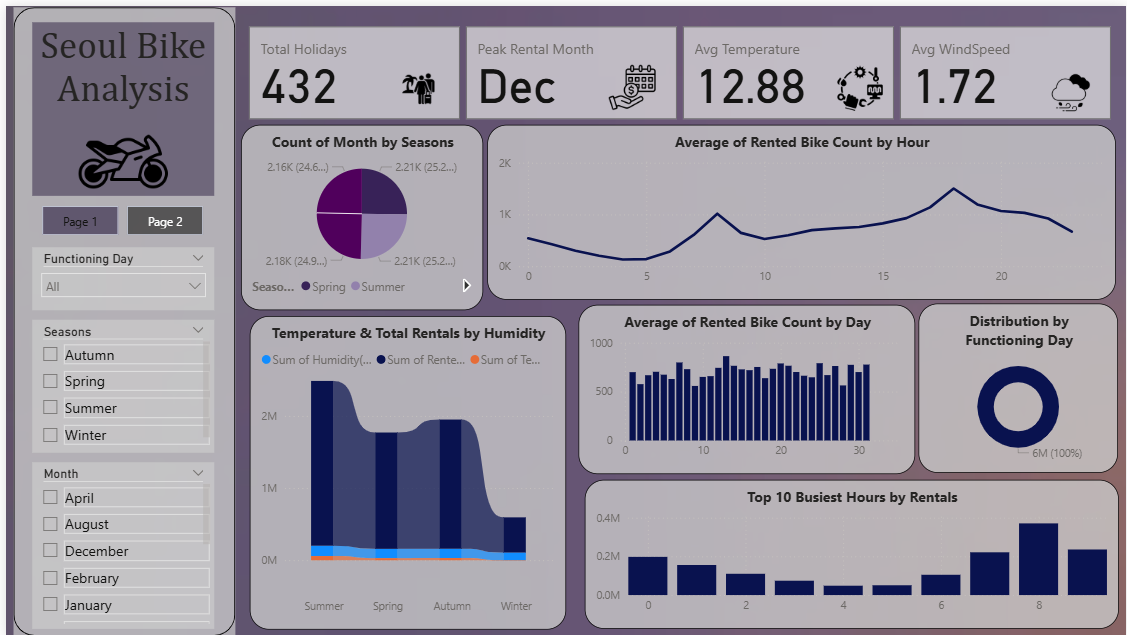

What the dashboard file says about the page in this screenshot:
{"tool":"powerbi","page":{"name":"Detalied","canvas":[1280,720],"ordinal":1},"visuals":[{"type":"shape","box":[0,0,261.7,719],"z":0},{"type":"slicer","fields":{"Values":["SeoulBikeData.Month"]},"box":[30,521.7,208.3,190],"z":1000},{"type":"slicer","fields":{"Values":["SeoulBikeData.Functioning Day"]},"box":[46.7,278.6,181.1,67.2],"z":2000},{"type":"textbox","box":[30.2,17.8,208.6,122.1],"z":3000},{"type":"image","box":[30.2,107,185.2,107],"z":4000},{"type":"cardVisual","fields":{"Data":["SeoulBikeData.Total Holidays","SeoulBikeData.Peak Rental Month","SeoulBikeData.Avg Temperature","SeoulBikeData.Avg WindSpeed"]},"box":[273.3,18.3,995,116.7],"z":5000},{"type":"image","box":[425.4,70,91.9,46.7],"z":6000},{"type":"image","box":[673.3,61.7,85,63.3],"z":7000},{"type":"image","box":[943.3,61.7,66.7,65],"z":8000},{"type":"image","box":[1175,71.7,81.7,55],"z":9000},{"type":"slicer","fields":{"Values":["SeoulBikeData.Seasons"]},"box":[30,358.3,208.3,151.7],"z":10000},{"type":"clusteredColumnChart","fields":{"Y":["Avg(SeoulBikeData.Rented Bike Count)"],"Category":["SeoulBikeData.Date.Variation.Date Hierarchy.Day"]},"box":[661.4,345.8,378.7,189.4],"z":11000},{"type":"lineChart","fields":{"Category":["SeoulBikeData.Hour"],"Y":["Avg(SeoulBikeData.Rented Bike Count)"]},"box":[661.4,134.5,606.5,200.3],"z":12000},{"type":"donutChart","title":"Distribution by Functioning Day","fields":{"Y":["Sum(SeoulBikeData.Rented Bike Count)"]},"box":[1043.3,340,228.3,193.3],"z":13000},{"type":"clusteredColumnChart","title":"Top 10 Busiest Hours by Rentals","fields":{"Category":["SeoulBikeData.Hour"],"Y":["Sum(SeoulBikeData.Rented Bike Count)"]},"box":[661.7,541.7,610,170],"z":14000},{"type":"ribbonChart","title":"Temperature & Total Rentals by Humidity","fields":{"Y":["Sum(SeoulBikeData.Humidity(%))","Sum(SeoulBikeData.Rented Bike Count)","Sum(SeoulBikeData.Temperature(°C))"],"Category":["SeoulBikeData.Seasons"]},"box":[278.6,376,360.9,337.6],"z":15000},{"type":"clusteredBarChart","fields":{"Category":["SeoulBikeData.Week"],"Y":["Avg(SeoulBikeData.Rented Bike Count)"]},"box":[273.1,140,363.6,225],"z":16000},{"type":"image","box":[81,200.3,85.1,68.6],"z":17000}]}

Visuals, with their boxes in screenshot pixels (x1, y1, x2, y2), scaled from the page's 1280x720 canvas onto the 1127x635 screenshot:
shape: [0,0,230,634]
slicer - SeoulBikeData.Month: [26,460,210,628]
slicer - SeoulBikeData.Functioning Day: [41,246,201,305]
textbox: [27,16,210,123]
image: [27,94,190,189]
cardVisual - SeoulBikeData.Total Holidays x SeoulBikeData.Peak Rental Month: [241,16,1117,119]
image: [375,62,455,103]
image: [593,54,668,110]
image: [831,54,889,112]
image: [1035,63,1106,112]
slicer - SeoulBikeData.Seasons: [26,316,210,450]
clusteredColumnChart - Avg(SeoulBikeData.Rented Bike Count) x SeoulBikeData.Date.Variation.Date Hierarchy.Day: [582,305,916,472]
lineChart - SeoulBikeData.Hour x Avg(SeoulBikeData.Rented Bike Count): [582,119,1116,295]
"Distribution by Functioning Day" donutChart: [919,300,1120,470]
"Top 10 Busiest Hours by Rentals" clusteredColumnChart: [583,478,1120,628]
"Temperature & Total Rentals by Humidity" ribbonChart: [245,332,563,629]
clusteredBarChart - SeoulBikeData.Week x Avg(SeoulBikeData.Rented Bike Count): [240,123,561,322]
image: [71,177,146,237]
